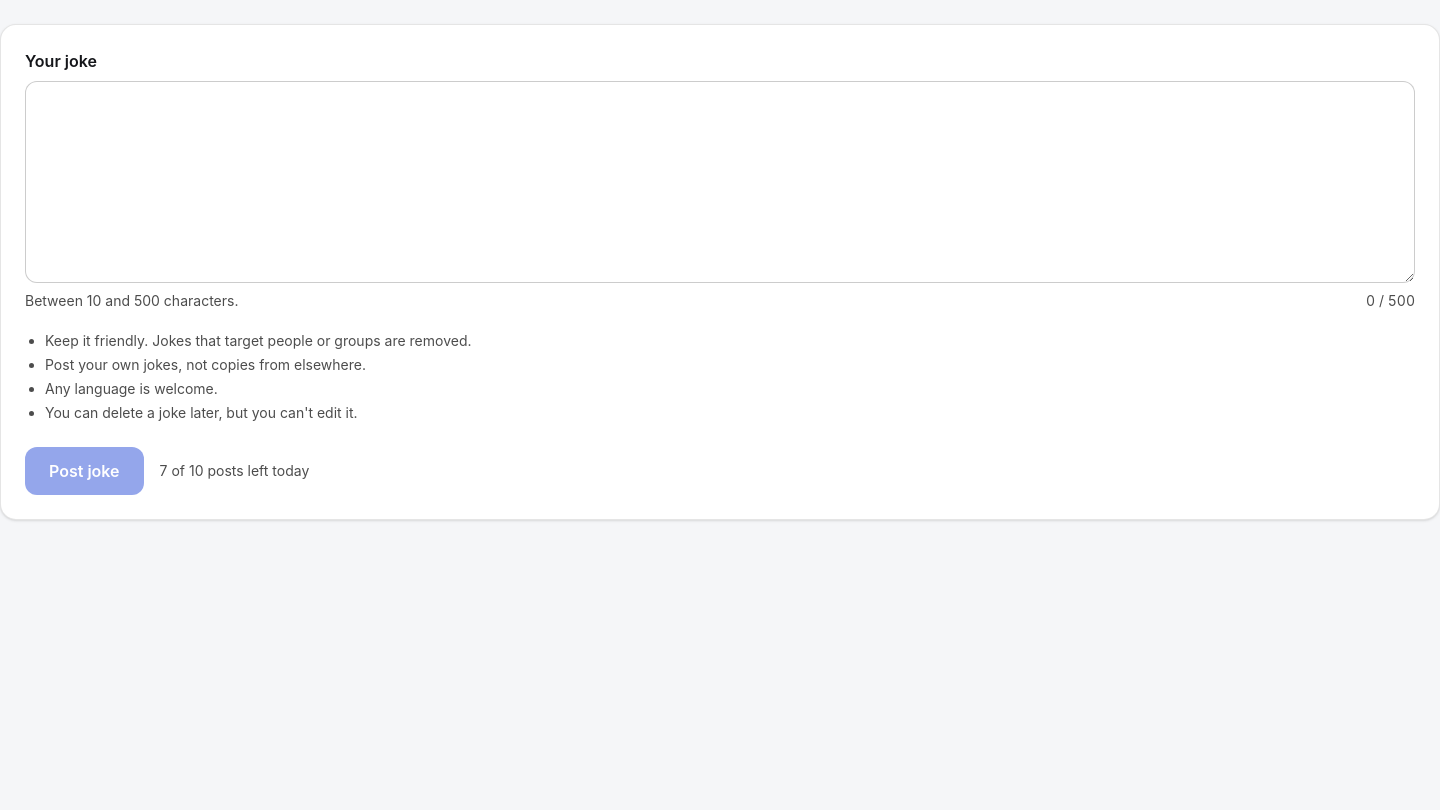
Scenario: PostJokeForm › submits the text and shows a server error as an alert
Step 1. Type "A joke about ten words" into the text box labelled "Your joke" → point(720, 182), box [25, 81, 1415, 282]
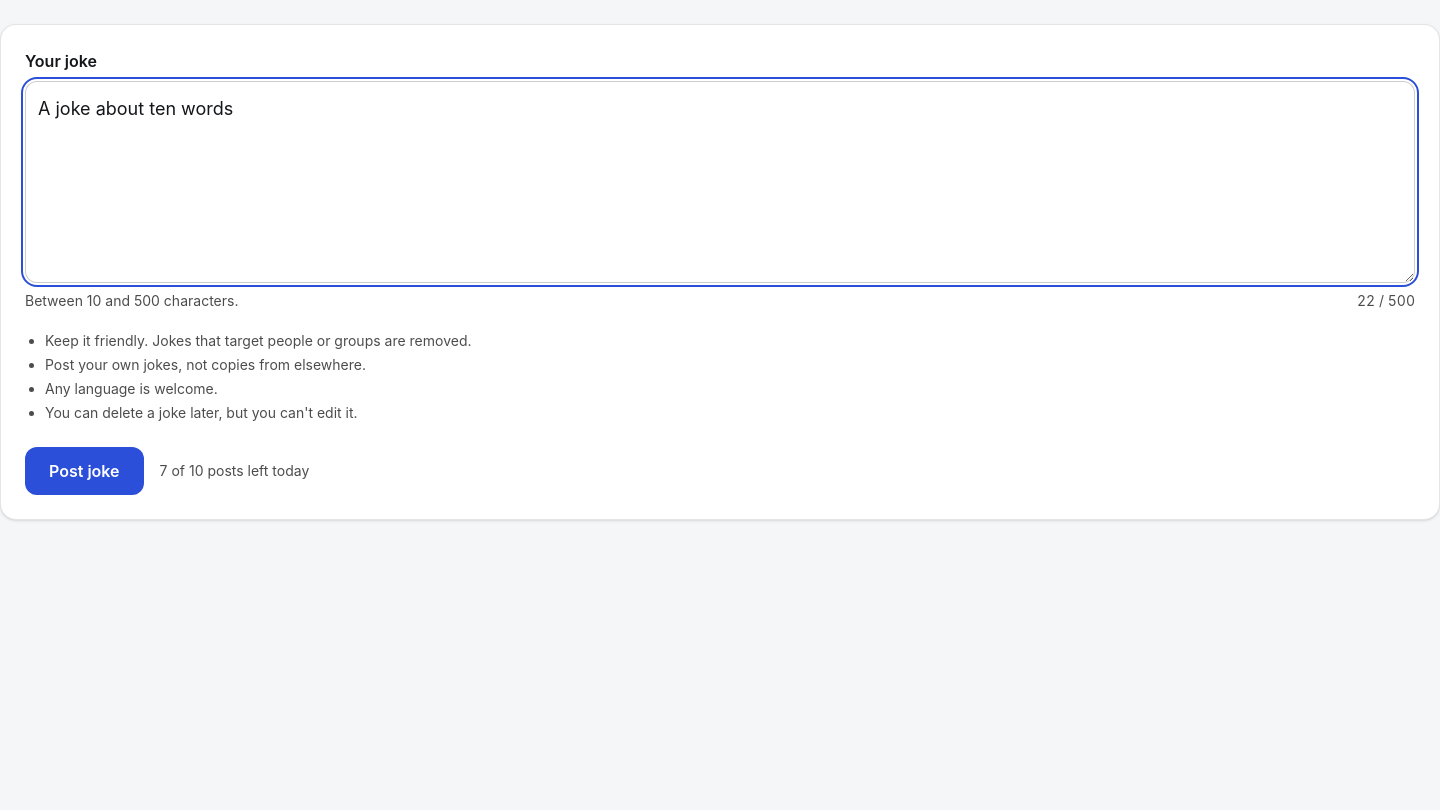
Step 2. Click the button "Post joke" → point(84, 470), box [25, 446, 144, 494]
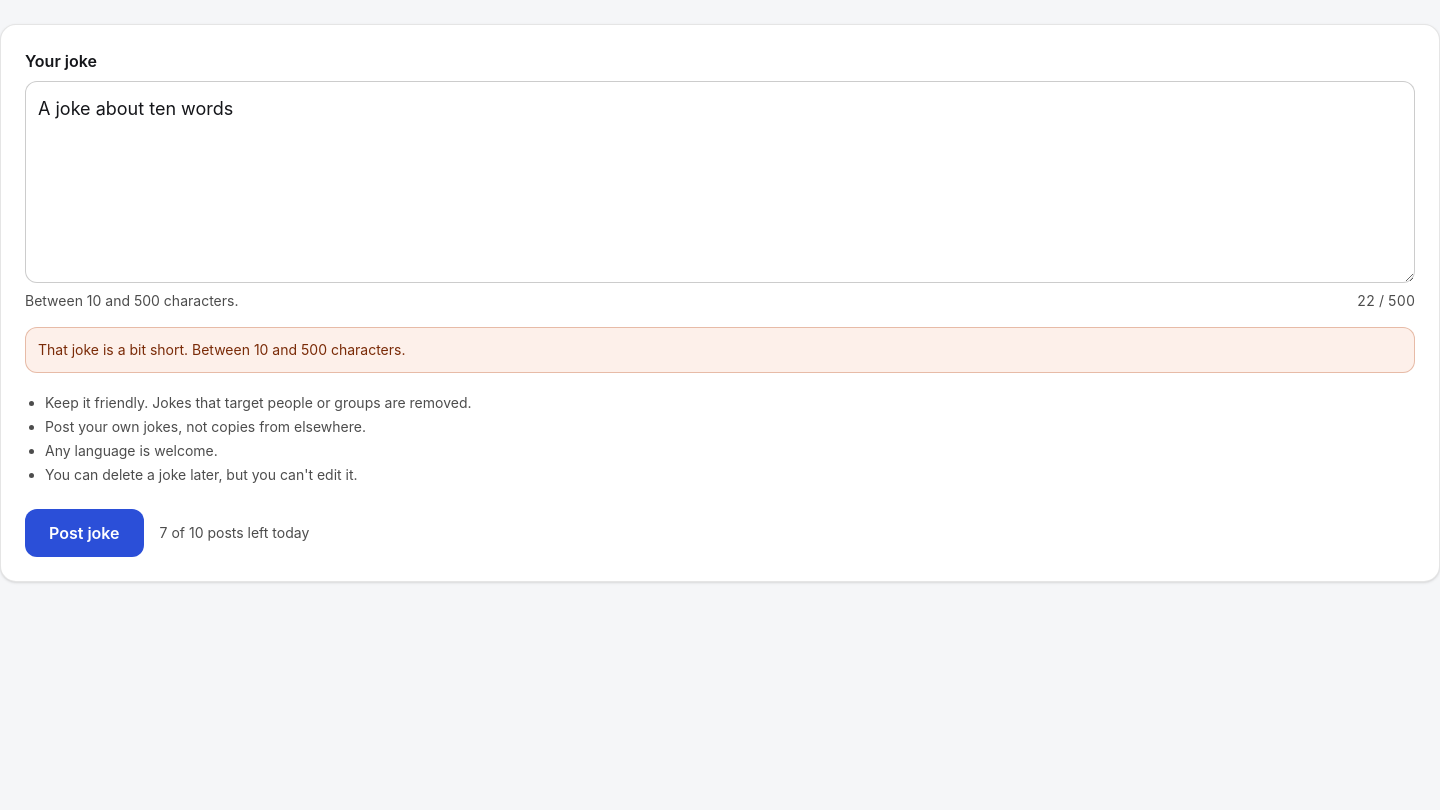
Expected: the message shows "That joke is a bit short.", [38, 340, 406, 358]
